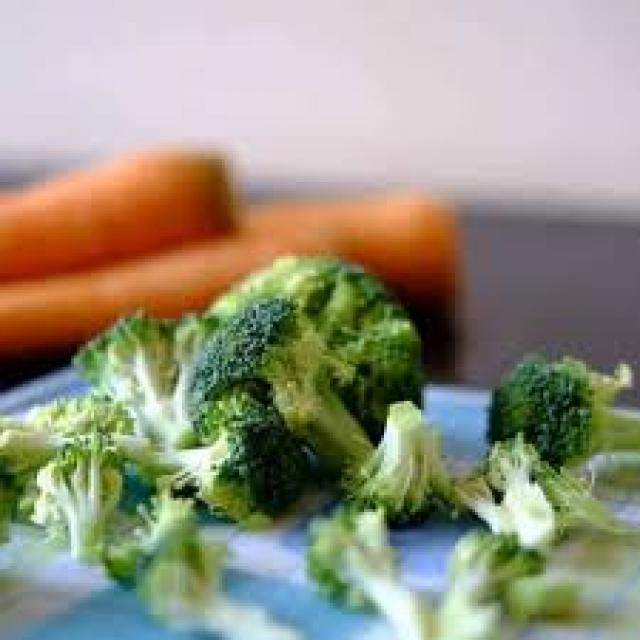organic waste: (193, 253, 424, 432), (0, 233, 287, 355), (185, 290, 373, 475), (0, 148, 233, 276), (102, 382, 308, 524), (455, 435, 637, 555), (228, 202, 458, 296), (66, 304, 216, 444), (0, 389, 139, 537), (96, 475, 225, 626), (484, 350, 637, 464), (307, 498, 430, 637), (336, 398, 450, 521), (20, 438, 125, 558), (449, 520, 549, 586), (429, 580, 532, 637), (498, 566, 580, 617)
